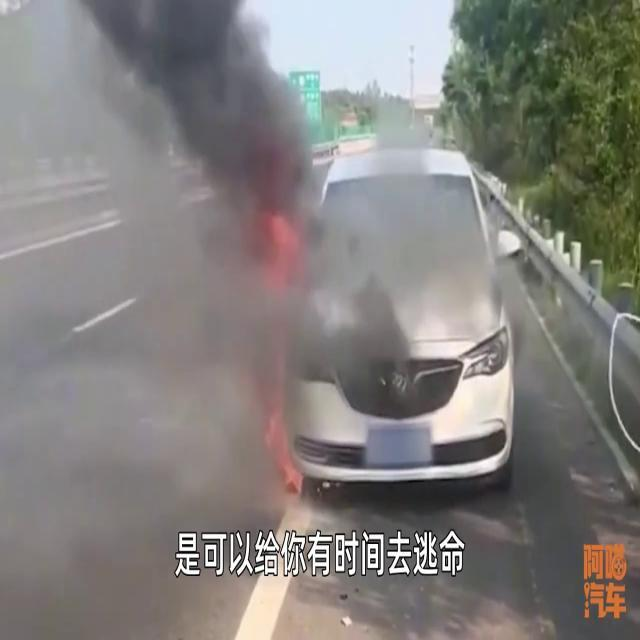Smoke: (103, 1, 355, 494)
